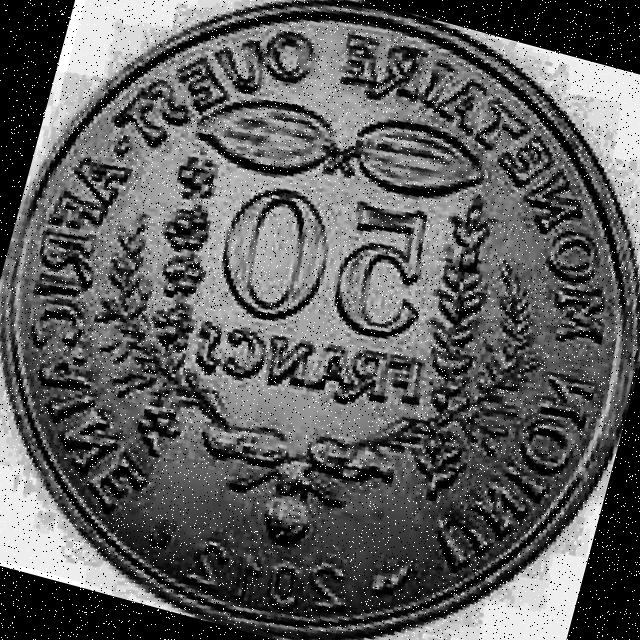fukk: (5, 4, 639, 634)
